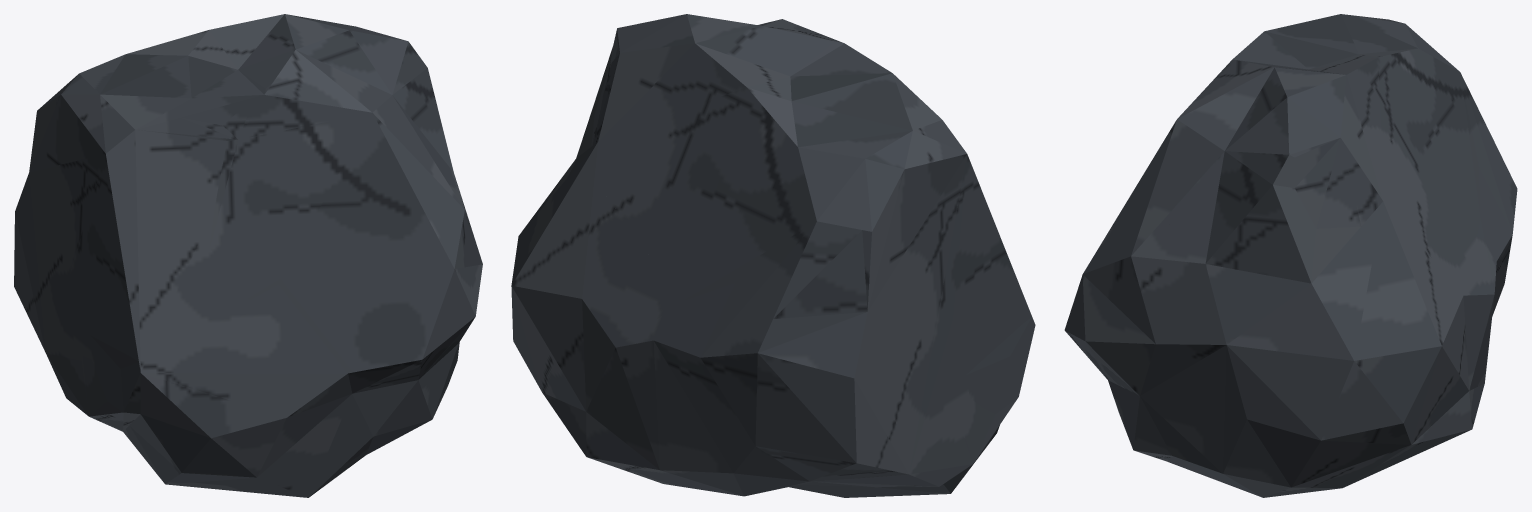
The model's file is rock_break2_v1.fbx.
The picture shows the model from 3 angles, left to right: view 1: azimuth 30°, elevation 25°; view 2: azimuth 150°, elevation 25°; view 3: azimuth 270°, elevation 25°; orthographic projection. The views are drawn at different scales.
Visible parts, largest first — view 1: rock_break2_v1_lod0, rock_break2_v1_p0, rock_break2_v1_p4, rock_break2_v1_p6, rock_break2_v1_p3, rock_break2_v1_p2, rock_break2_v1_p1; view 2: rock_break2_v1_lod0, rock_break2_v1_p2, rock_break2_v1_p4, rock_break2_v1_p5, rock_break2_v1_p1, rock_break2_v1_p3; view 3: rock_break2_v1_lod0, rock_break2_v1_p5, rock_break2_v1_p2, rock_break2_v1_p6, rock_break2_v1_p0.
Boxes of the visible parts, x1,y1,x2,y2 form: rock_break2_v1_lod0: (14,14,482,497); rock_break2_v1_p0: (238,52,437,278); rock_break2_v1_p4: (15,97,280,370); rock_break2_v1_p6: (279,145,474,431); rock_break2_v1_p3: (111,284,404,490); rock_break2_v1_p2: (50,15,385,139); rock_break2_v1_p1: (38,273,137,449); rock_break2_v1_lod0: (511,14,1031,497); rock_break2_v1_p2: (584,14,913,318); rock_break2_v1_p4: (725,94,1031,412); rock_break2_v1_p5: (511,116,723,489); rock_break2_v1_p1: (697,356,1004,497); rock_break2_v1_p3: (880,317,1035,494); rock_break2_v1_lod0: (1064,14,1517,497); rock_break2_v1_p5: (1253,218,1511,496); rock_break2_v1_p2: (1239,15,1480,228); rock_break2_v1_p6: (1065,207,1315,490); rock_break2_v1_p0: (1110,59,1295,229).
Size of what is drawn, in the model's own units: 90.87 by 90.79 by 90.89.
